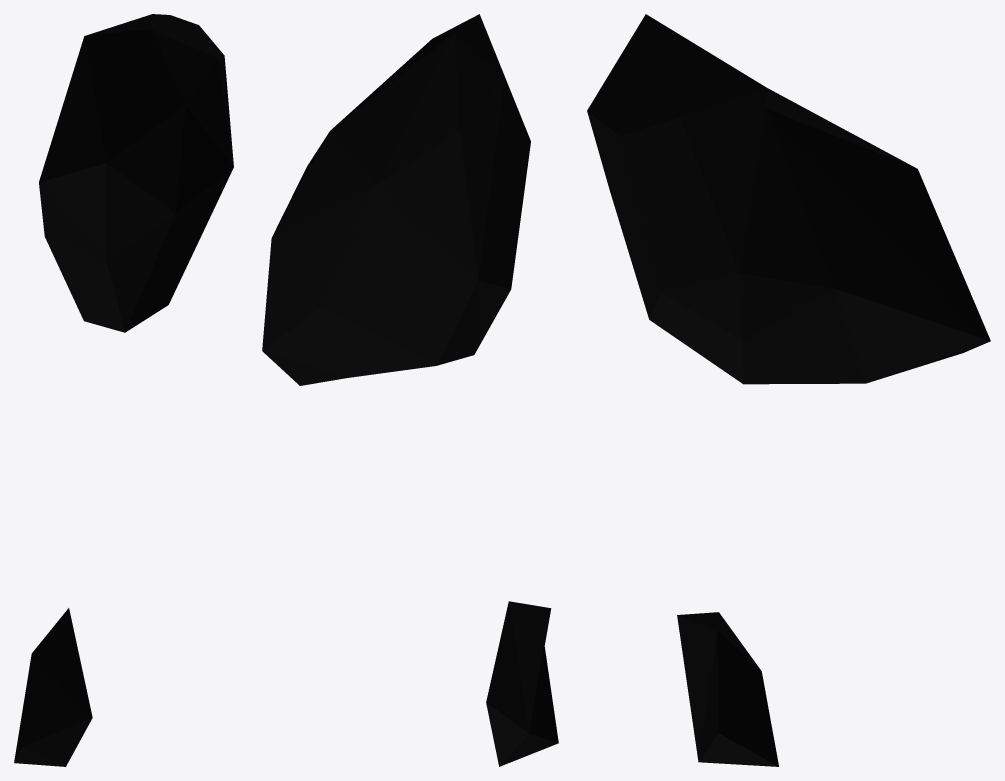
The picture shows the model from 3 angles, left to right: view 1: azimuth 30°, elevation 25°; view 2: azimuth 150°, elevation 25°; view 3: azimuth 270°, elevation 25°; orthographic projection. The views are drawn at different scales.
Bounding box in the file's own units: 0.0625 × 0.1862 × 0.0856.
Materials: 1 (1 with a texture image).
